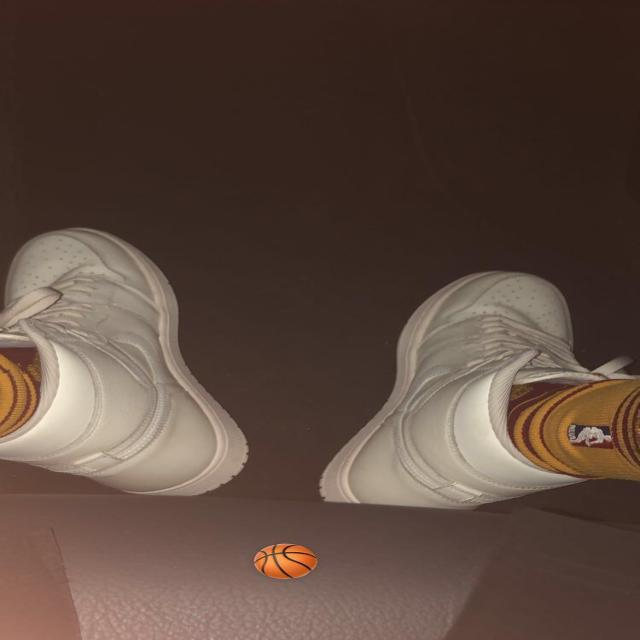shoe: (2, 228, 257, 495), (318, 268, 592, 511)
